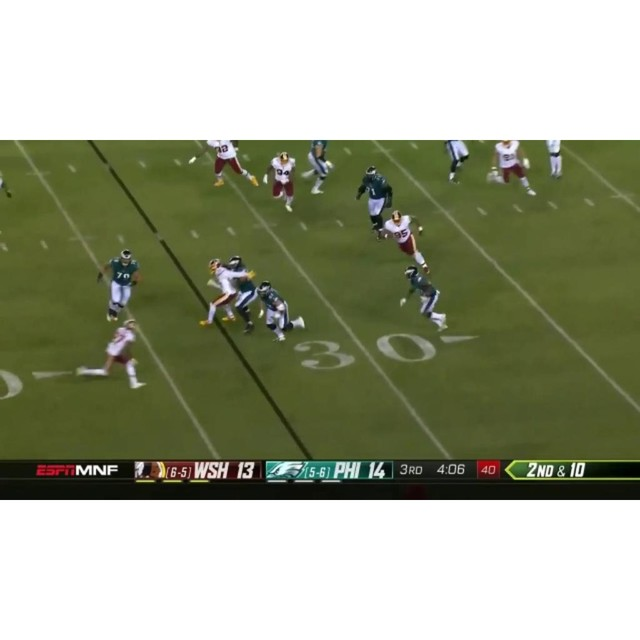american-football-player: (77, 319, 147, 389), (399, 264, 447, 333), (379, 208, 429, 273), (257, 281, 308, 344), (98, 249, 140, 323), (225, 255, 261, 332), (200, 258, 239, 329), (354, 165, 393, 236), (489, 141, 536, 196), (206, 141, 259, 188), (263, 151, 297, 211), (301, 141, 334, 195), (442, 140, 471, 185), (544, 141, 564, 180)
